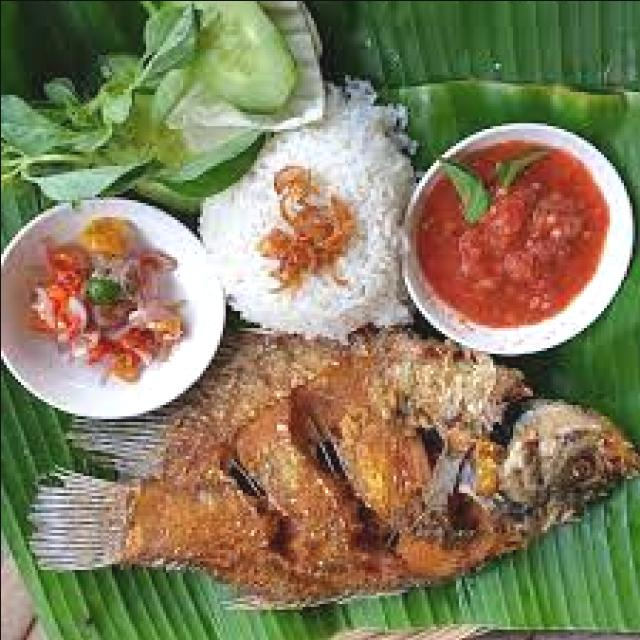ikan goreng: (26, 313, 640, 609)
nasi: (196, 71, 415, 338)
